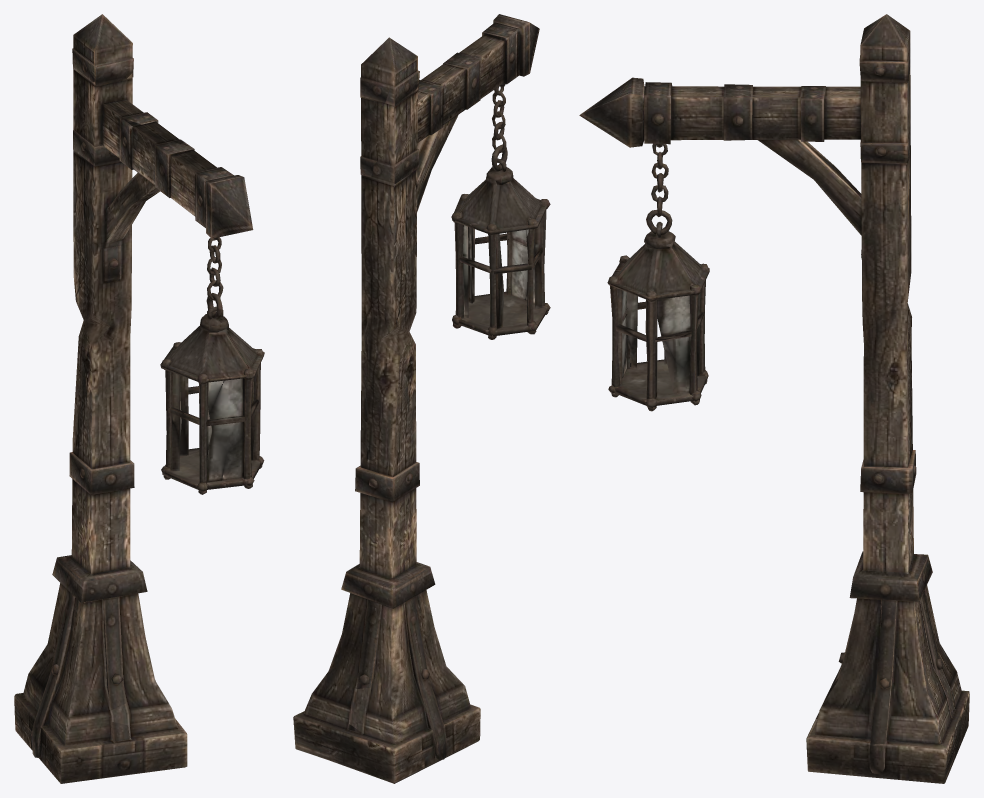
Rendered from h_post_lantern.glb.
3 views of the same model, side by side, from view 1: azimuth 30°, elevation 25°; view 2: azimuth 150°, elevation 25°; view 3: azimuth 270°, elevation 25° (orthographic). The views are drawn at different scales.
Visible parts, largest first — view 1: h_post_lantern; view 2: h_post_lantern; view 3: h_post_lantern.
Boxes of the visible parts, <box> form: h_post_lantern: <box>14,14,264,783</box>; h_post_lantern: <box>293,14,550,783</box>; h_post_lantern: <box>579,14,969,783</box>.
Bounding box in the file's own units: 0.6398 × 3.23 × 1.55.
Materials: 1 (1 with a texture image).
